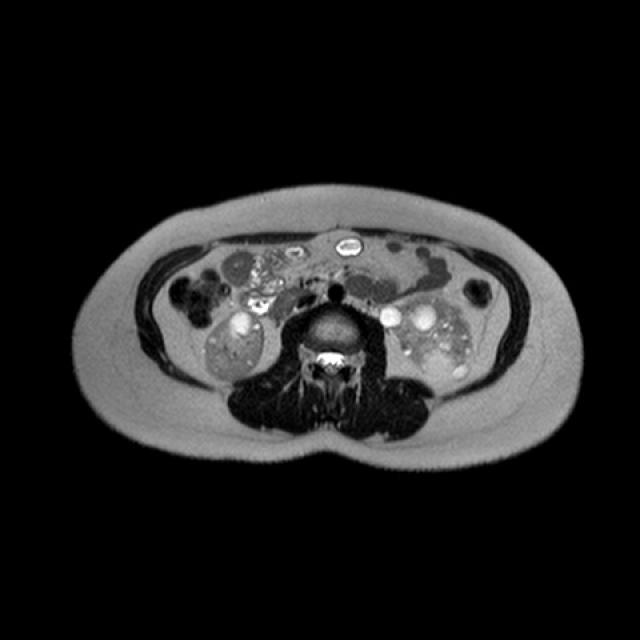sag: (206, 308, 264, 382)
sol: (379, 292, 478, 383)
